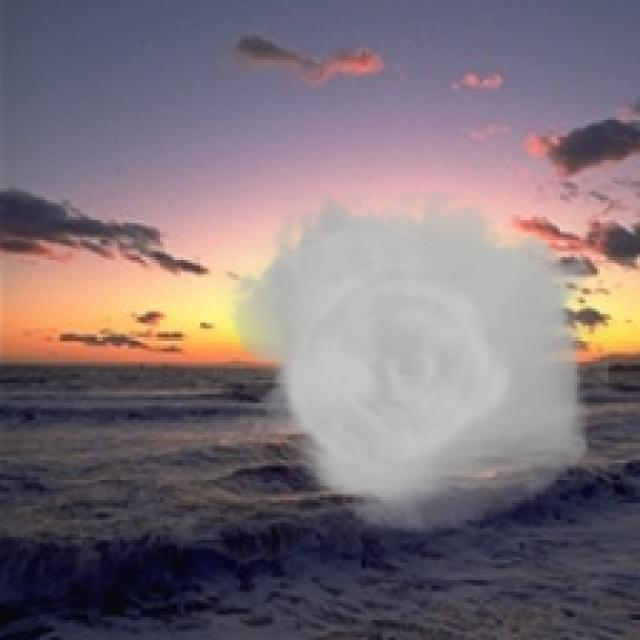Smoke: (217, 192, 609, 534)
